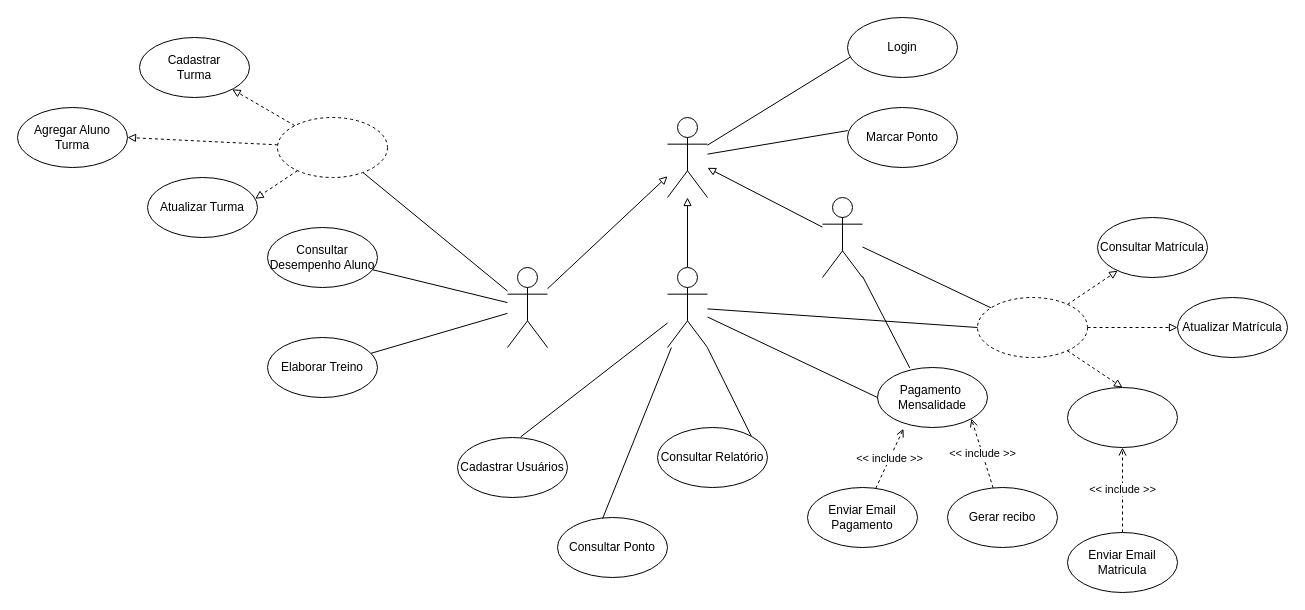
Image size: 1305x610. Some labels were removed from this diagram. The shapes that lost their labels are listed below. From the top down, each one's centre as x and y in pixels, then its label:
At (332,147): "Gerenciar Turmas".
At (687,157): "Administrador".
At (842,237): "Usuário".
At (527,307): "Professor".
At (687,307): "Super Administrador".
At (1032,327): "Gerenciar Matrículas".
At (1122,417): "Efetivar Matrícula".
